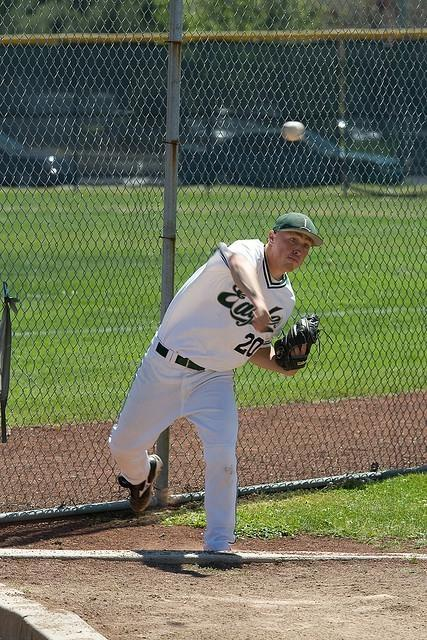car: (184, 130, 408, 182), (0, 134, 80, 187)
